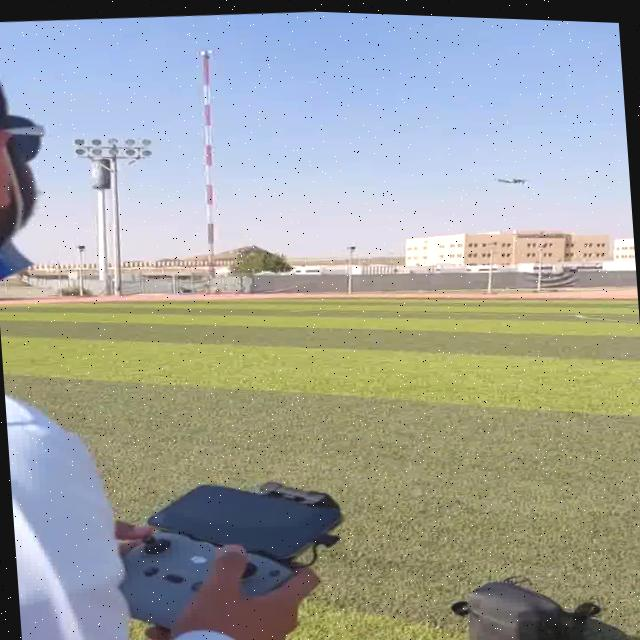drone: (491, 163, 540, 189)
